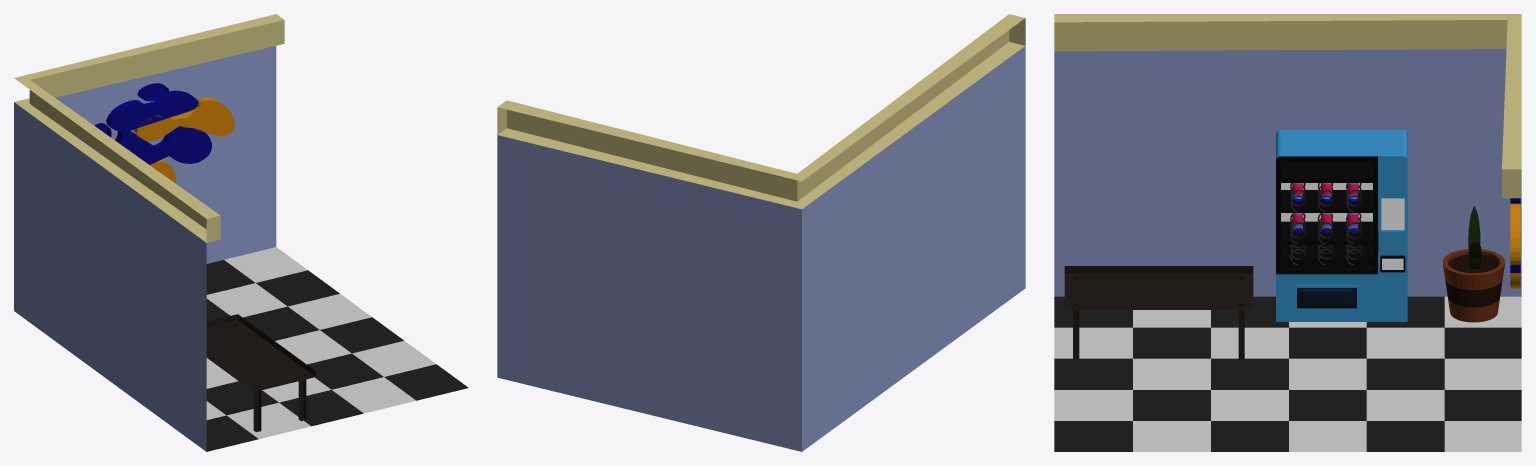
File: Allanim0010.obj
The picture shows the model from 3 angles, left to right: view 1: azimuth 30°, elevation 25°; view 2: azimuth 150°, elevation 25°; view 3: azimuth 270°, elevation 25°; orthographic projection. The views are drawn at different scales.
Parts seen in each view (by area): view 1: ruangan_Cube.003, meja_Cube.004, logo.001_Circle.019, logo_Circle.006, logo.005_Circle.023; view 2: ruangan_Cube.003; view 3: ruangan_Cube.003, vending_machine_Cube.001, meja_Cube.004, pot_bunga_Cylinder, per_second\_Spiral.010, Plane.007, logo_Circle.006.
Part boxes in pixels (box(x1,y1,x2,y2)): ruangan_Cube.003: box(14, 14, 468, 451); meja_Cube.004: box(206, 314, 315, 432); logo.001_Circle.019: box(115, 126, 212, 164); logo_Circle.006: box(133, 97, 234, 141); logo.005_Circle.023: box(106, 90, 198, 133); ruangan_Cube.003: box(497, 14, 1025, 451); ruangan_Cube.003: box(1054, 14, 1521, 451); vending_machine_Cube.001: box(1276, 130, 1407, 321); meja_Cube.004: box(1064, 266, 1253, 359); pot_bunga_Cylinder: box(1442, 249, 1505, 322); per_second\_Spiral.010: box(1290, 183, 1361, 265); Plane.007: box(1468, 206, 1481, 268); logo_Circle.006: box(1510, 203, 1520, 264).
Size of the model in its own units: 11.73 by 9.95 by 14.9.
